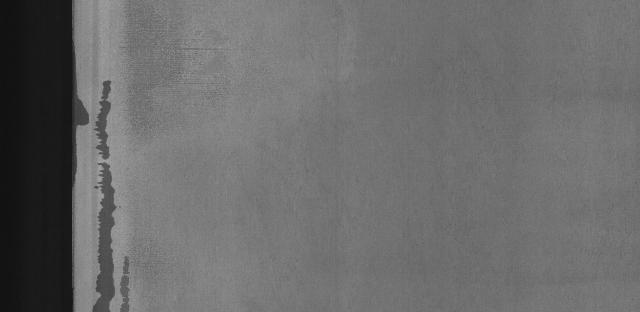oil_spot: (91, 77, 143, 312)
